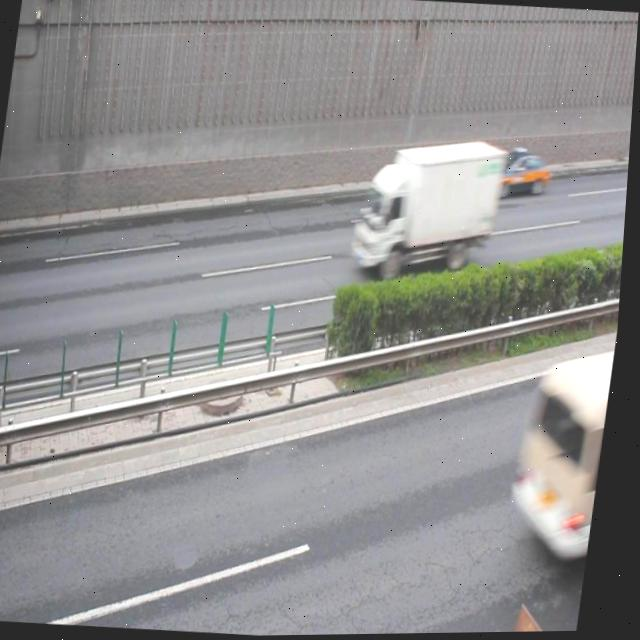bus: (351, 136, 507, 280)
car: (495, 147, 554, 204)
van: (508, 348, 619, 551)
